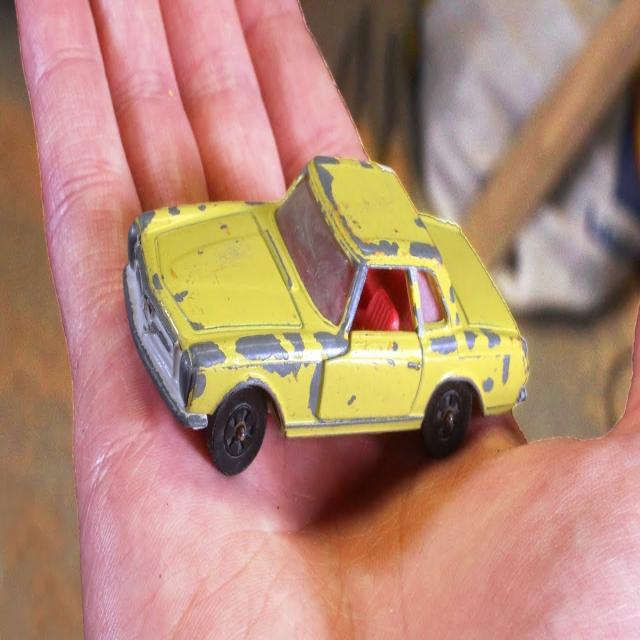Car: (122, 154, 530, 476)
